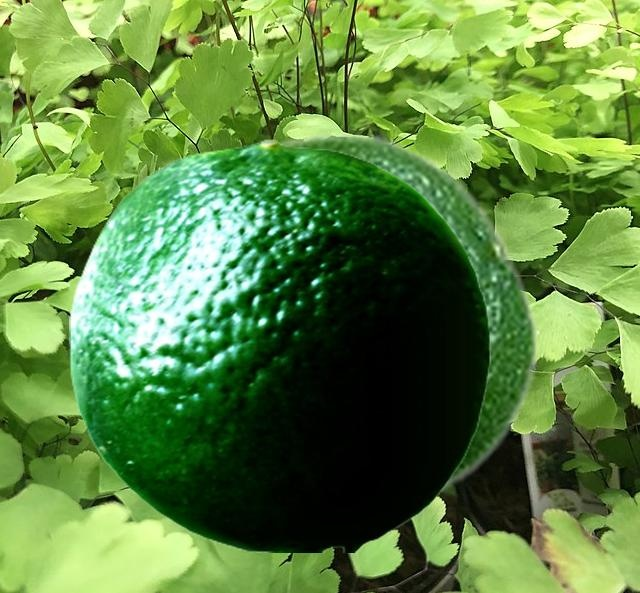calamansi: (69, 138, 489, 551), (267, 130, 540, 502)
